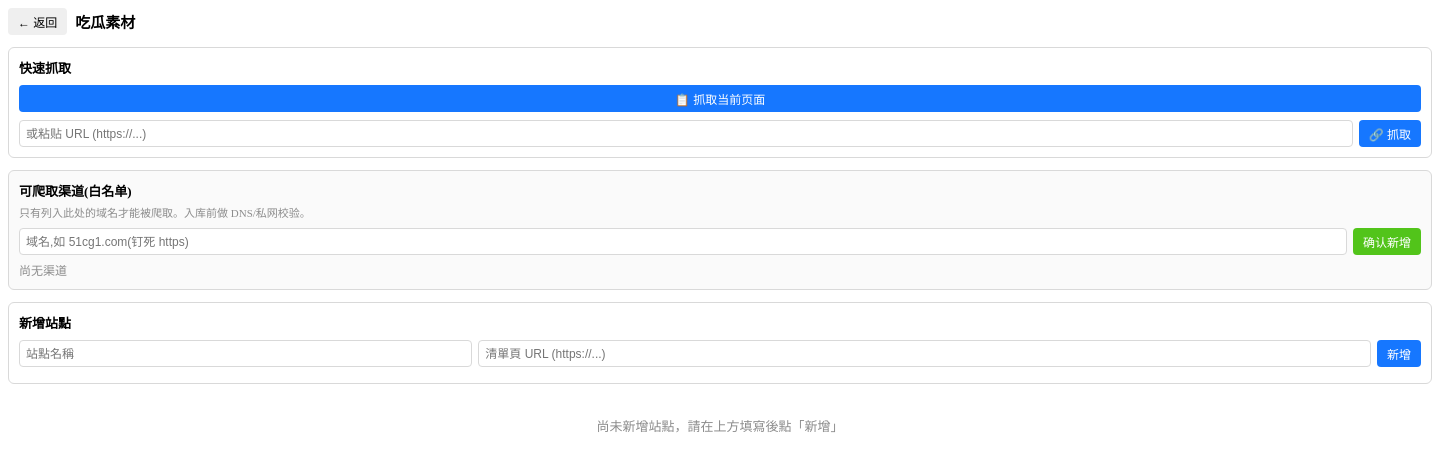
Test: GossipView › 输入渠道域名 → 确认新增 → 调 createChannel 并刷新
Type "news-a.com" into the field with placeholder "域名,如 51cg1.com(钉死 https)".
click(683, 242); type("news-a.com")  # box [19,228,1347,255]
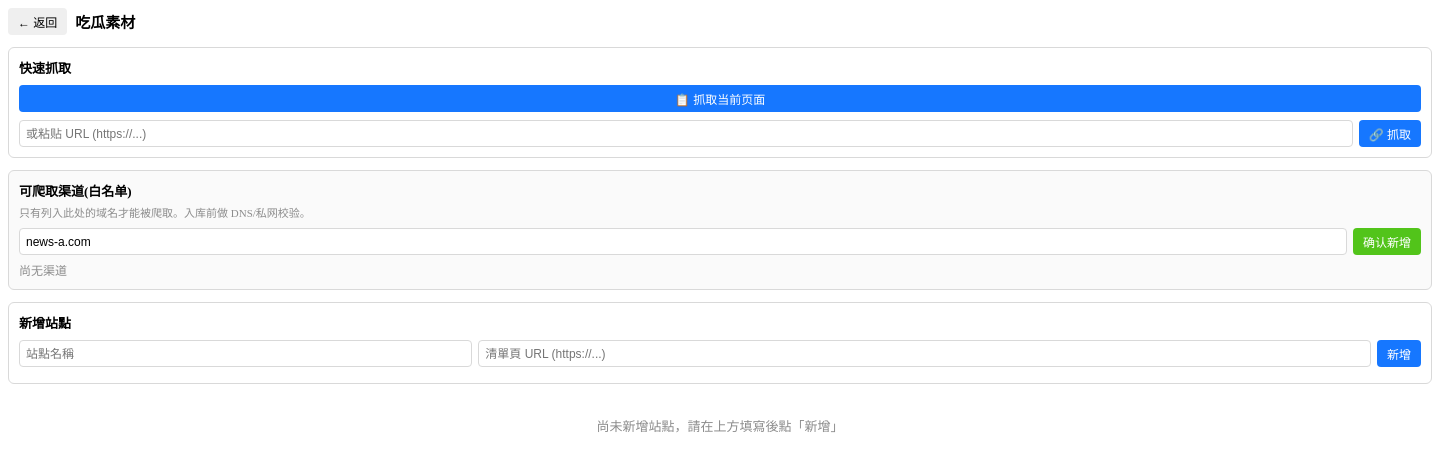
自用模式:无需口令,填域名即可新增。
Click the button "确认新增".
click(1387, 242)  # box [1353,228,1421,255]
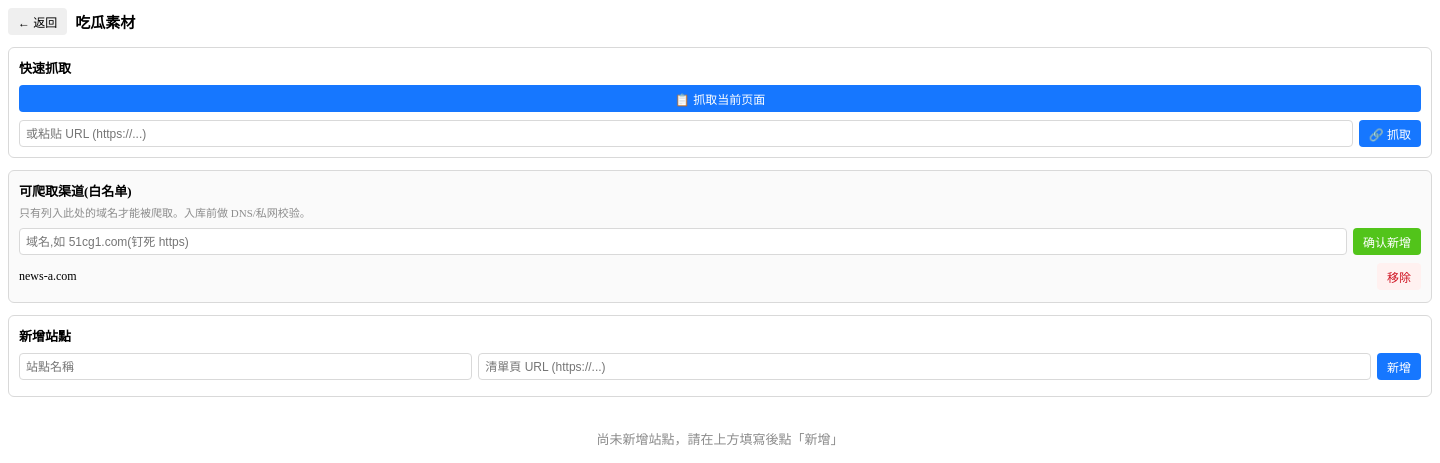
Check: the text "news-a.com" is shown, box [19,269,77,283]
